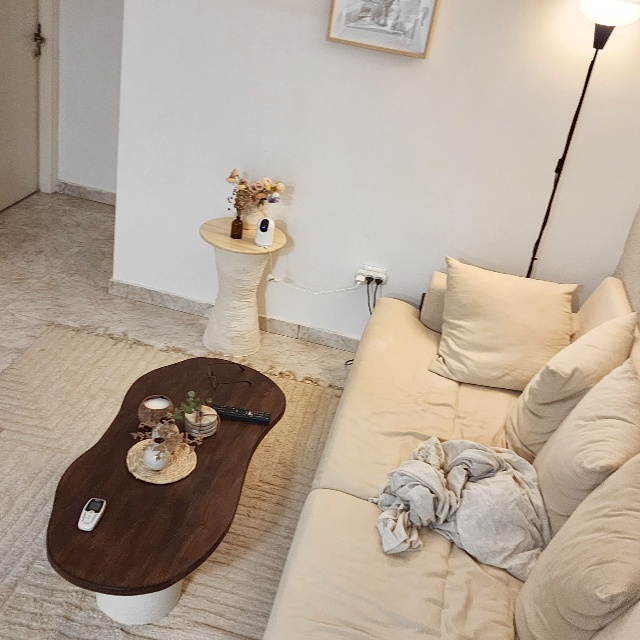glasses: (207, 359, 257, 391)
